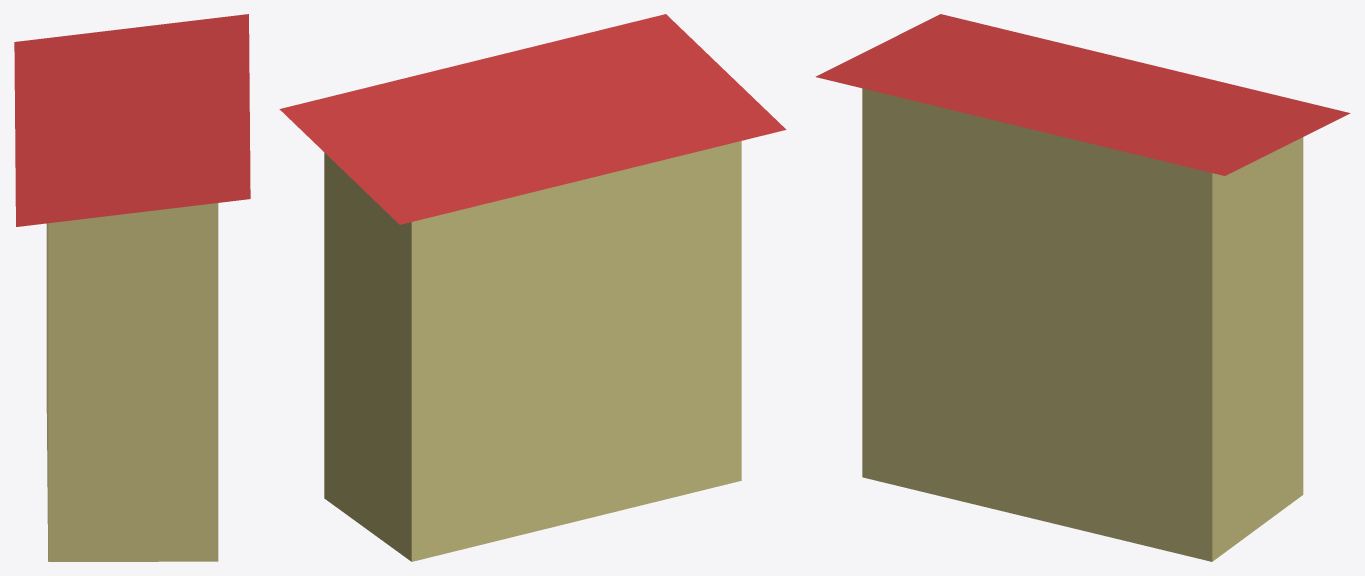
3 renders of one model, left to right at view 1: azimuth 30°, elevation 25°; view 2: azimuth 150°, elevation 25°; view 3: azimuth 270°, elevation 25°, orthographic. The views are drawn at different scales.
Size of the model in its own units: 6.53 by 7.7 by 6.44.
